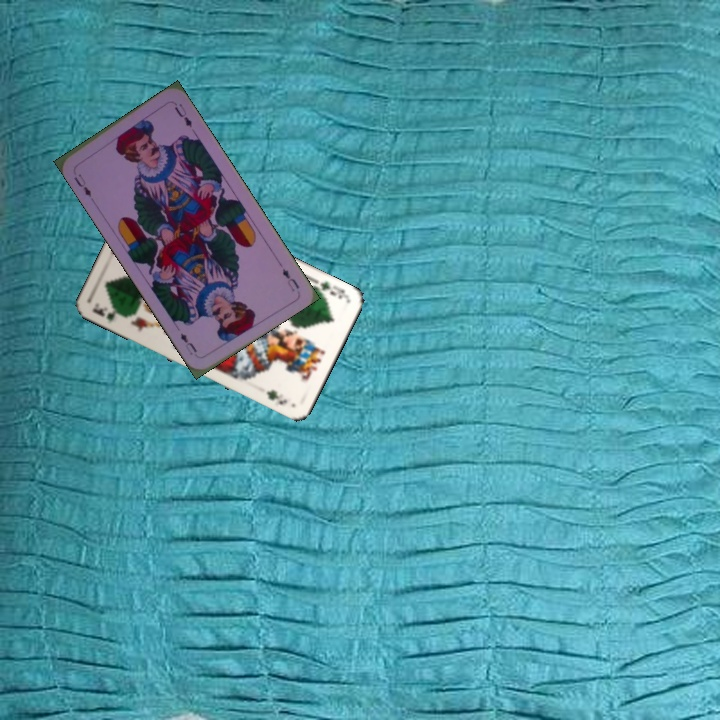EU: (70, 170, 95, 202), (278, 264, 302, 294)
GK: (309, 275, 349, 302), (89, 299, 129, 326)
